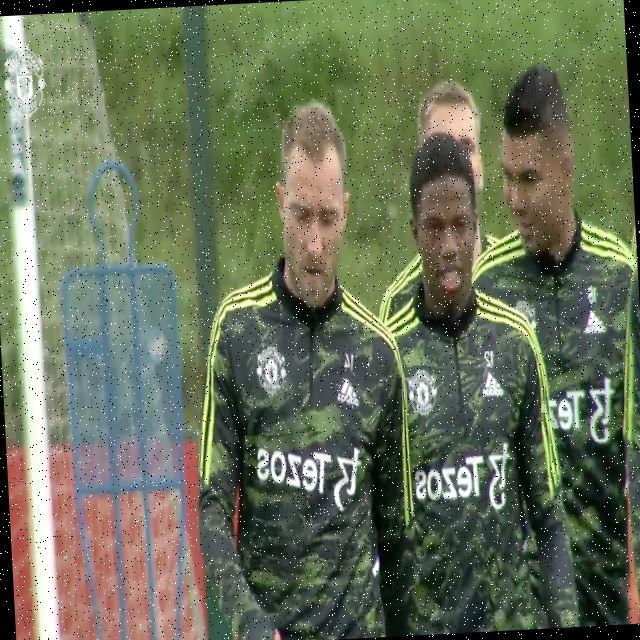Adidas: (336, 374, 361, 409), (480, 369, 504, 400), (583, 309, 607, 337)
